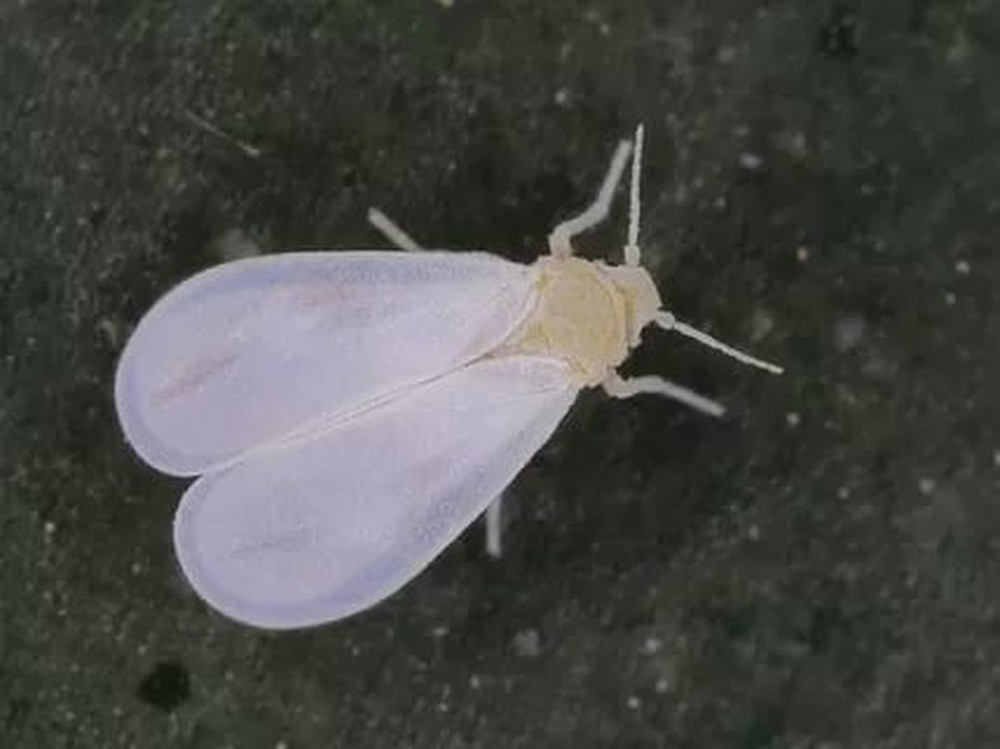Mosca Blanca: (108, 120, 806, 649)
